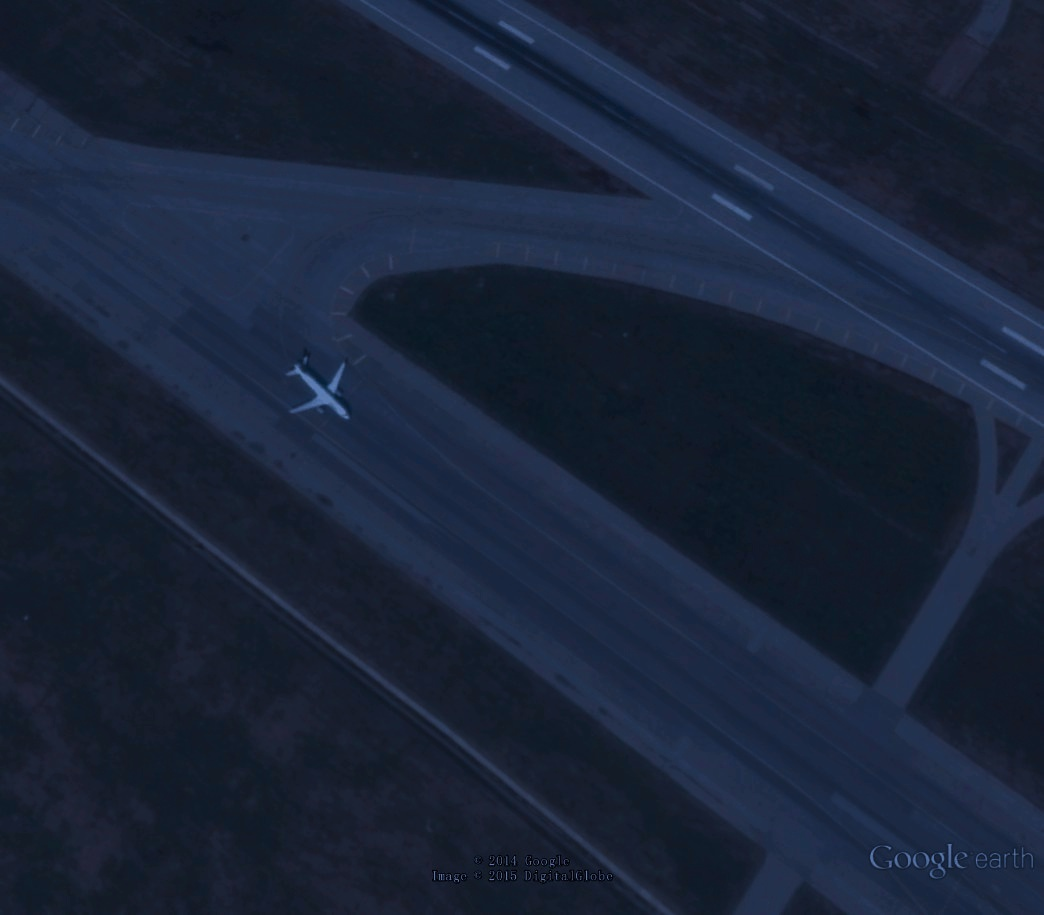aircraft: (280, 346, 360, 429)
